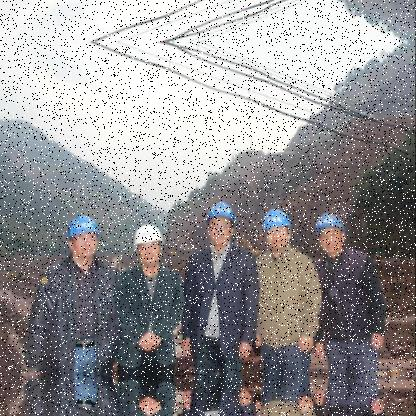Helmet: (126, 218, 170, 276), (193, 196, 240, 249), (307, 206, 349, 259), (60, 216, 110, 260), (254, 207, 301, 252)
